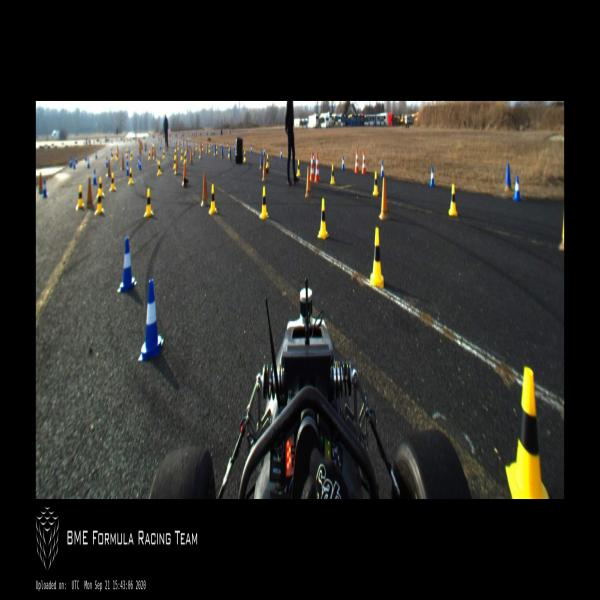blue_cone: (138, 279, 164, 362), (117, 238, 137, 293), (513, 176, 522, 202), (429, 166, 435, 188), (380, 161, 384, 179), (43, 180, 47, 198), (93, 169, 97, 184), (341, 157, 345, 170), (138, 159, 142, 170), (126, 162, 129, 176), (105, 157, 108, 168), (137, 156, 140, 167), (94, 150, 98, 158), (263, 147, 266, 157), (73, 160, 76, 170), (126, 156, 129, 166), (87, 159, 90, 168), (280, 148, 282, 160), (250, 146, 253, 154), (144, 144, 147, 152), (75, 156, 78, 164), (69, 158, 71, 169), (71, 157, 73, 167), (211, 142, 213, 150), (173, 142, 175, 150), (159, 142, 161, 150), (110, 148, 112, 156), (85, 153, 87, 161), (227, 143, 229, 150), (220, 142, 222, 149), (128, 147, 130, 154), (234, 144, 235, 150), (189, 142, 190, 148)
large_orange_cone: (314, 153, 320, 183), (354, 148, 359, 173), (310, 151, 314, 182), (361, 150, 366, 174)
unknown_cone: (379, 177, 390, 220), (200, 172, 210, 208), (85, 178, 94, 209), (504, 163, 512, 193), (305, 165, 312, 198), (182, 160, 188, 187), (262, 157, 268, 182), (38, 172, 43, 194), (106, 159, 112, 177), (174, 155, 179, 175), (120, 154, 125, 170), (259, 150, 263, 168), (189, 149, 193, 165), (220, 146, 224, 158), (199, 146, 202, 160), (153, 146, 156, 160), (214, 144, 216, 157), (166, 142, 168, 151), (186, 144, 188, 152), (183, 138, 184, 146)
yellow_cone: (505, 366, 550, 499), (370, 227, 384, 289), (317, 198, 329, 240), (259, 186, 269, 221), (208, 184, 218, 216), (144, 187, 154, 218), (449, 183, 458, 216), (94, 189, 104, 216), (76, 184, 84, 210), (96, 177, 104, 198), (373, 171, 379, 196), (109, 172, 116, 191), (128, 168, 134, 186), (330, 164, 335, 184), (296, 158, 301, 176), (157, 161, 162, 176), (265, 153, 269, 168), (129, 150, 133, 162), (180, 149, 184, 161), (173, 155, 176, 170), (243, 150, 246, 162), (111, 150, 114, 162), (184, 150, 187, 162), (162, 150, 165, 160), (208, 144, 211, 153), (125, 148, 128, 156), (148, 149, 150, 161), (195, 143, 198, 151), (116, 151, 118, 162), (174, 149, 176, 160), (184, 153, 186, 164), (115, 149, 117, 159), (228, 148, 230, 158), (216, 146, 218, 155), (177, 143, 179, 151), (202, 143, 204, 151)
